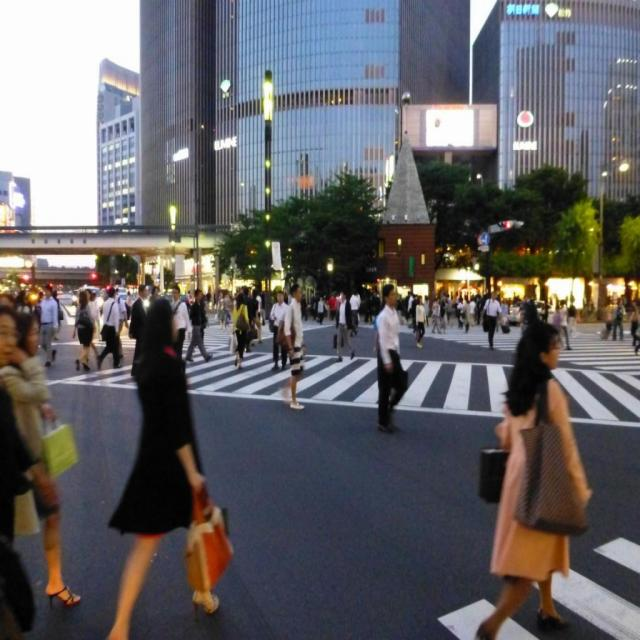body: (0, 262, 640, 372), (104, 294, 234, 639), (474, 317, 595, 639), (0, 304, 82, 613), (0, 305, 40, 639), (373, 282, 409, 436), (274, 282, 307, 412), (95, 284, 123, 371), (184, 287, 213, 365), (128, 282, 151, 378), (70, 288, 96, 372), (168, 284, 192, 374), (268, 289, 290, 373), (230, 290, 252, 371), (39, 282, 59, 368), (334, 291, 356, 363), (479, 290, 503, 349), (113, 293, 130, 360), (558, 298, 574, 351), (413, 293, 428, 349), (248, 288, 263, 342), (611, 296, 626, 342), (628, 302, 640, 348), (459, 294, 472, 334), (431, 296, 443, 335), (348, 290, 359, 328), (316, 295, 327, 326), (124, 290, 134, 324), (328, 293, 338, 322)
